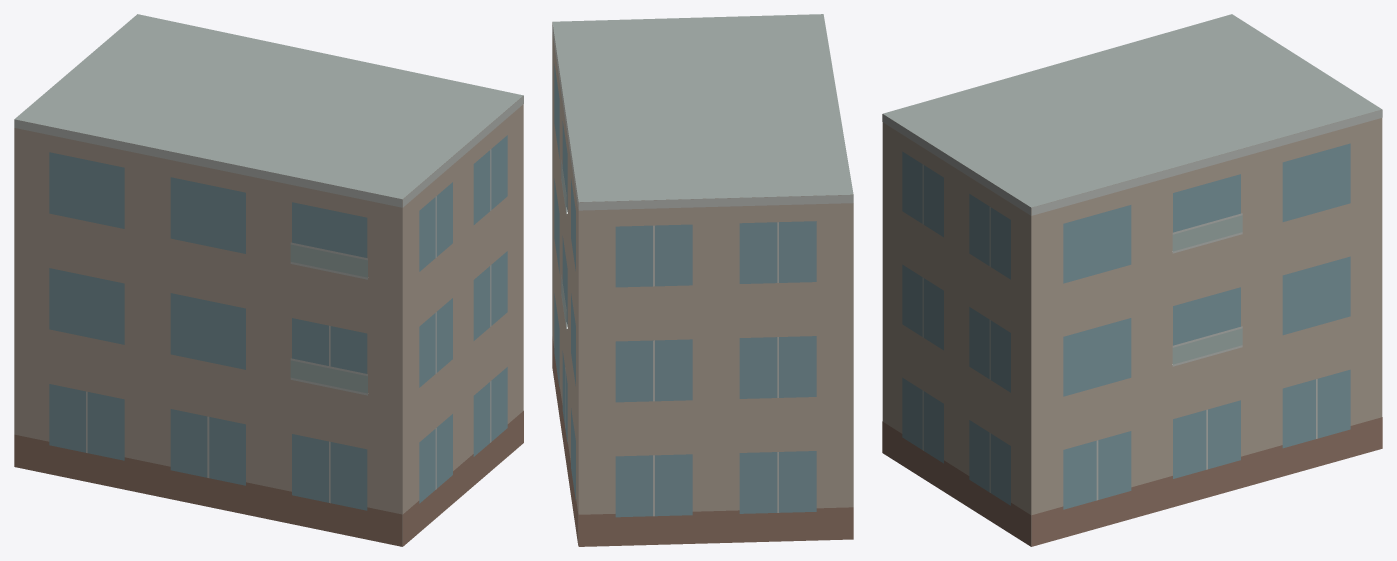
The model's file is survey-upis-32811888.glb.
3 renders of one model, left to right at view 1: azimuth 30°, elevation 25°; view 2: azimuth 150°, elevation 25°; view 3: azimuth 270°, elevation 25°, orthographic. The views are drawn at different scales.
Visible parts, largest first — view 1: survey-upis-32811888.tmp; view 2: survey-upis-32811888.tmp; view 3: survey-upis-32811888.tmp.
Boxes of the visible parts, x1,y1,x2,y2 form: survey-upis-32811888.tmp: (14, 14, 523, 546); survey-upis-32811888.tmp: (552, 14, 853, 546); survey-upis-32811888.tmp: (882, 14, 1382, 546).
Size of the model in its own units: 12.19 by 9.95 by 13.3.
